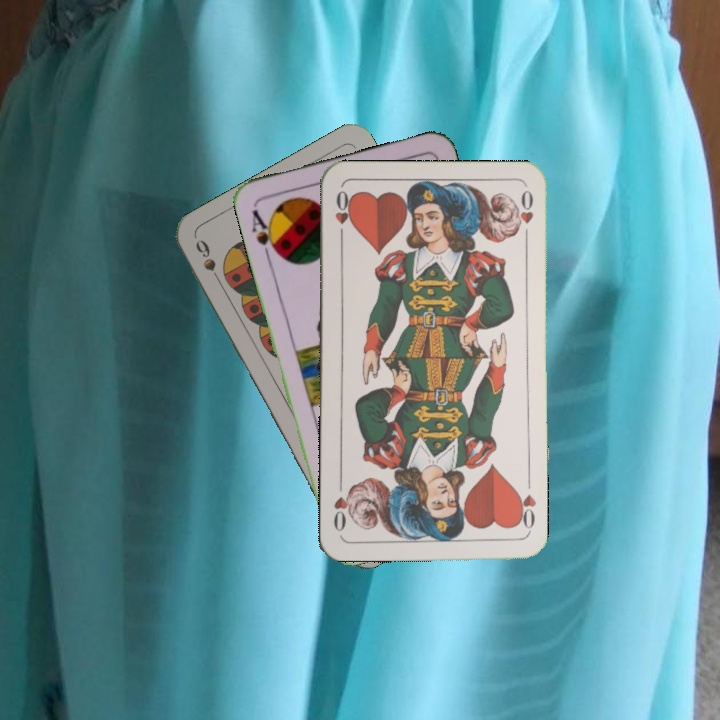HO: (331, 187, 354, 245), (512, 486, 538, 535)
S9: (191, 235, 227, 291)
SA: (247, 205, 282, 262)
